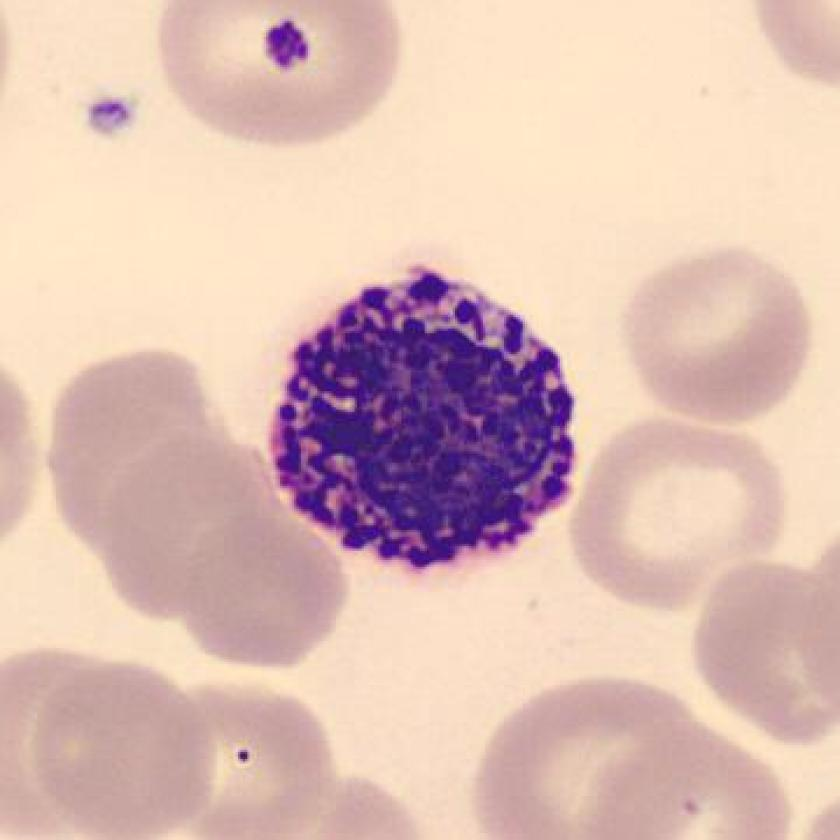basophil: (251, 253, 591, 584)
